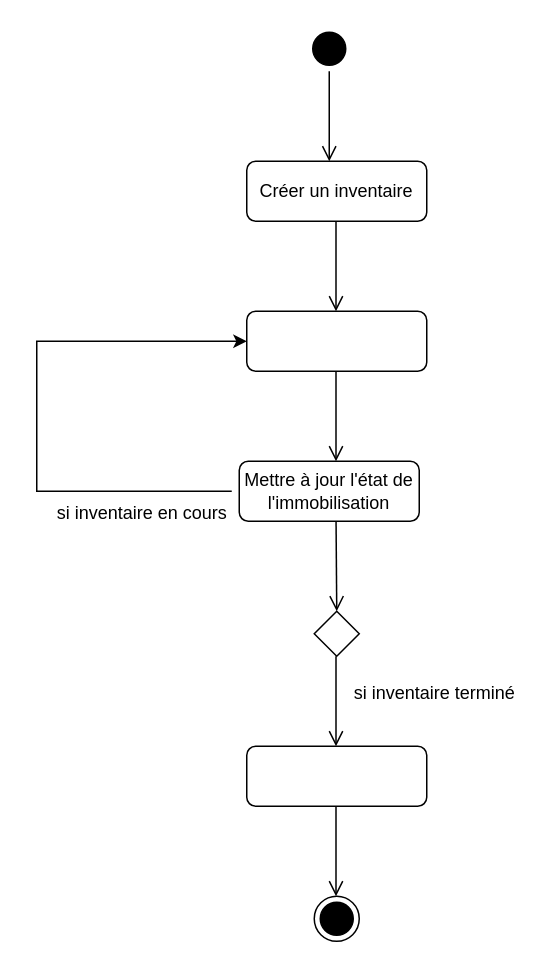
This 558x968 diagram has some shape labels left out. The centre of each missing label's shape, as x and y in pixels:
"Clôturer l'inventaire" belongs at (x=336, y=775).
"Scanner une immobilisation" belongs at (x=336, y=340).
